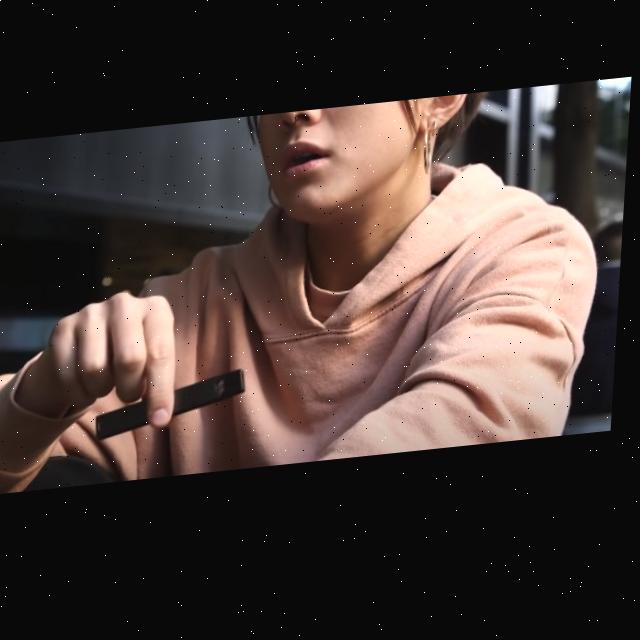vape: (99, 373, 252, 445)
